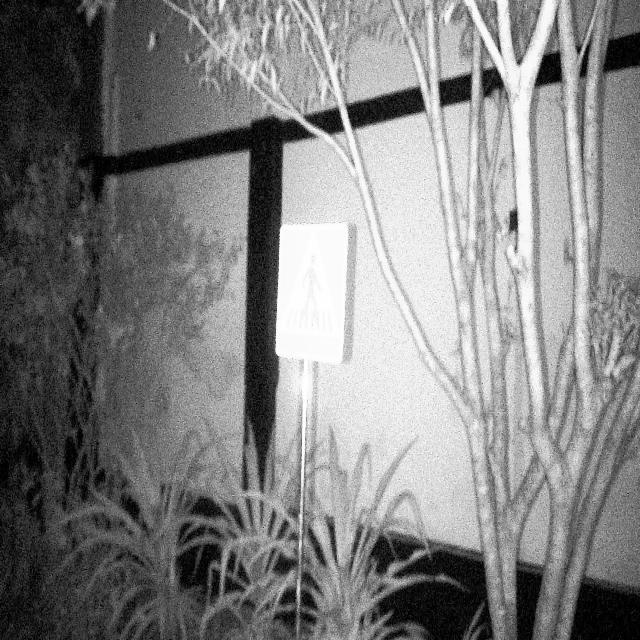Sign: (274, 221, 350, 366)
Tree: (361, 0, 639, 635)
